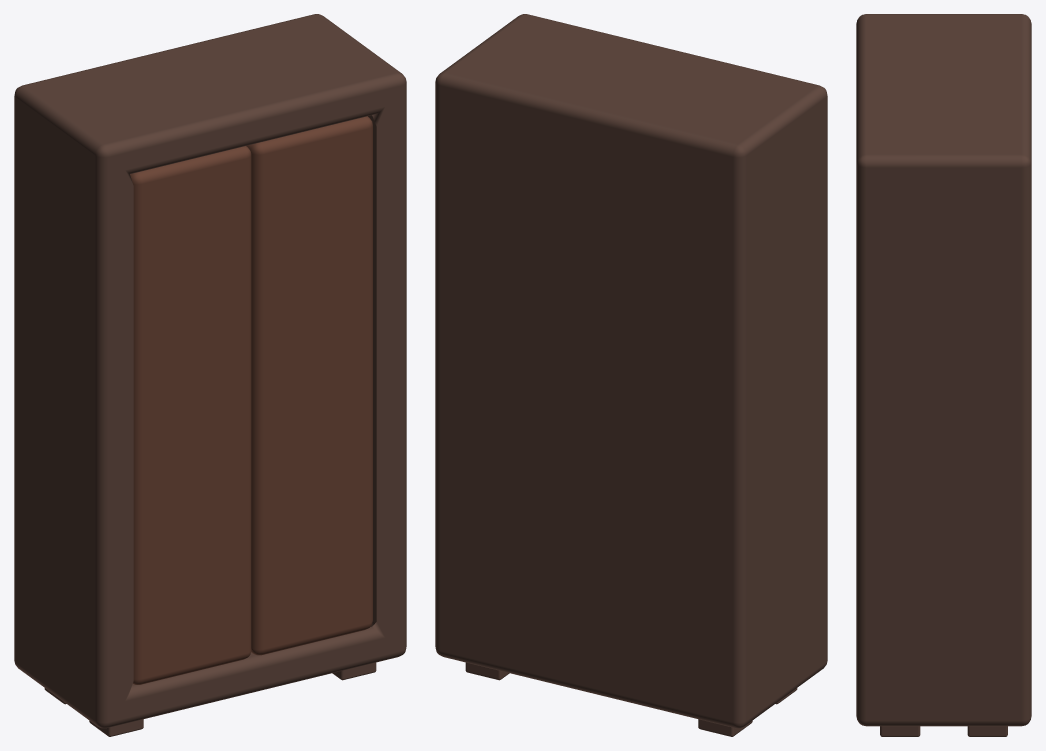
The model's file is armory_02.fbx.
3 views of the same model, side by side, from view 1: azimuth 30°, elevation 25°; view 2: azimuth 150°, elevation 25°; view 3: azimuth 270°, elevation 25° (orthographic). The views are drawn at different scales.
Parts seen in each view (by area): view 1: armory_02; view 2: armory_02; view 3: armory_02.
Boxes of the visible parts, x1,y1,x2,y2 form: armory_02: (14, 14, 406, 736); armory_02: (435, 14, 827, 736); armory_02: (856, 14, 1031, 736).
Bounding box in the file's own units: 400 × 742 × 200.
